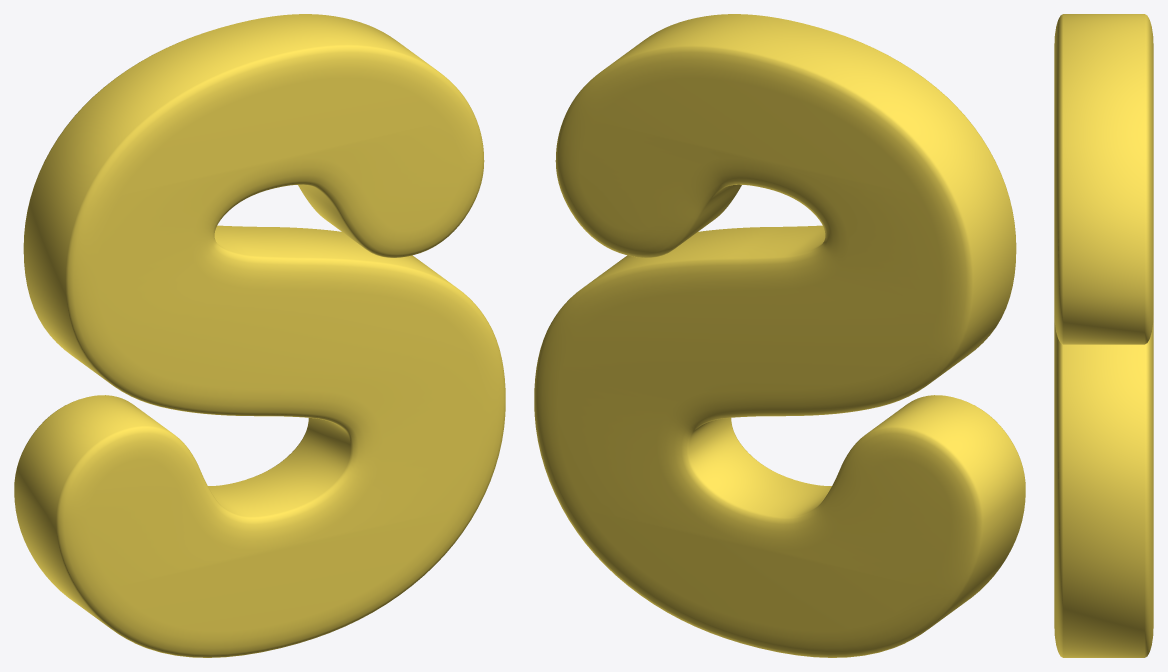
Rendered from RA_Letter_S.fbx.
3 views of the same model, side by side, from view 1: azimuth 30°, elevation 25°; view 2: azimuth 150°, elevation 25°; view 3: azimuth 270°, elevation 25° (orthographic). The views are drawn at different scales.
Visible parts, largest first — view 1: RA_Letter_S; view 2: RA_Letter_S; view 3: RA_Letter_S.
Boxes of the visible parts, bbox=[...] form: RA_Letter_S: bbox=[14, 14, 505, 657]; RA_Letter_S: bbox=[534, 14, 1025, 657]; RA_Letter_S: bbox=[1054, 14, 1153, 657].
Size of the model in its own units: 142 by 180 by 28.
